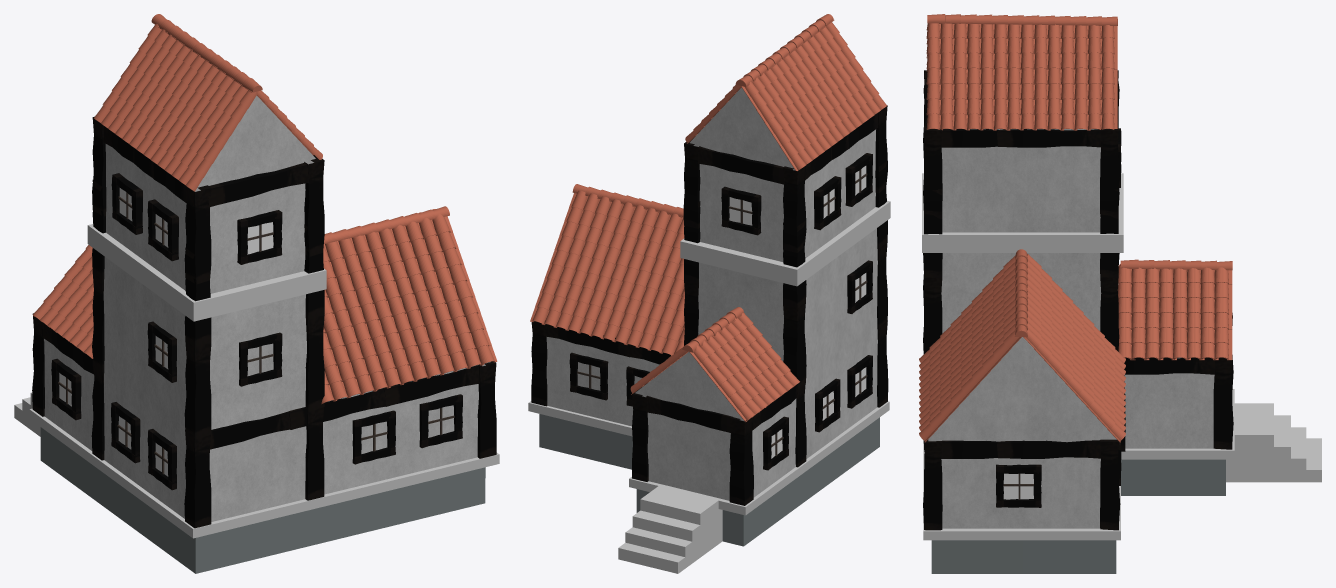
The model's file is house1.fbx.
3 renders of one model, left to right at view 1: azimuth 30°, elevation 25°; view 2: azimuth 150°, elevation 25°; view 3: azimuth 270°, elevation 25°, orthographic. The views are drawn at different scales.
Parts seen in each view (by area): view 1: Plane, Circle, Plane.001, Circle.006, Plane.002, Circle.003, Cube.011, Cube.010, Cube.013, Cube.045, Cube.033, Cube.009 (+27 smaller); view 2: Plane, Circle.001, Circle.006, Plane.001, Plane.002, Cube, Circle.003, Cube.002, Cube.017, Cube.051, Cube.015, Cube.028 (+29 smaller); view 3: Plane, Circle.004, Plane.001, Circle.001, Circle, Plane.002, Cube, Circle.002, Circle.011, Cube.041, Cube.032, Cube.035 (+15 smaller).
Boxes of the visible parts, <box> form: Plane: <box>44,95,490,521</box>; Circle: <box>321,213,497,404</box>; Plane.001: <box>40,427,485,573</box>; Circle.006: <box>94,24,257,191</box>; Plane.002: <box>29,224,499,538</box>; Circle.003: <box>33,245,93,358</box>; Cube.011: <box>184,341,211,439</box>; Cube.010: <box>184,430,211,528</box>; Cube.013: <box>184,185,211,284</box>; Cube.045: <box>237,210,282,264</box>; Cube.033: <box>208,162,309,207</box>; Cube.009: <box>304,155,324,256</box>; Plane: <box>546,87,877,500</box>; Circle.001: <box>530,190,684,355</box>; Circle.006: <box>741,22,886,170</box>; Plane.001: <box>539,414,879,546</box>; Plane.002: <box>528,200,890,515</box>; Cube: <box>618,484,722,573</box>; Circle.003: <box>689,312,799,422</box>; Cube.002: <box>729,417,753,505</box>; Cube.017: <box>783,165,806,252</box>; Cube.051: <box>721,186,761,235</box>; Cube.015: <box>783,302,806,389</box>; Cube.028: <box>698,146,784,184</box>; Plane: <box>928,129,1214,528</box>; Circle.004: <box>926,23,1117,130</box>; Plane.001: <box>931,459,1225,573</box>; Circle.001: <box>1023,253,1125,442</box>; Circle: <box>919,255,1021,442</box>; Plane.002: <box>922,173,1234,540</box>; Cube: <box>1226,403,1321,482</box>; Circle.002: <box>1120,267,1232,360</box>; Circle.011: <box>1117,266,1230,360</box>; Cube.041: <box>996,464,1041,507</box>; Cube.032: <box>997,129,1101,147</box>; Cube.035: <box>997,440,1103,458</box>.
Bounding box in the file's own units: 368 × 541 × 436.
